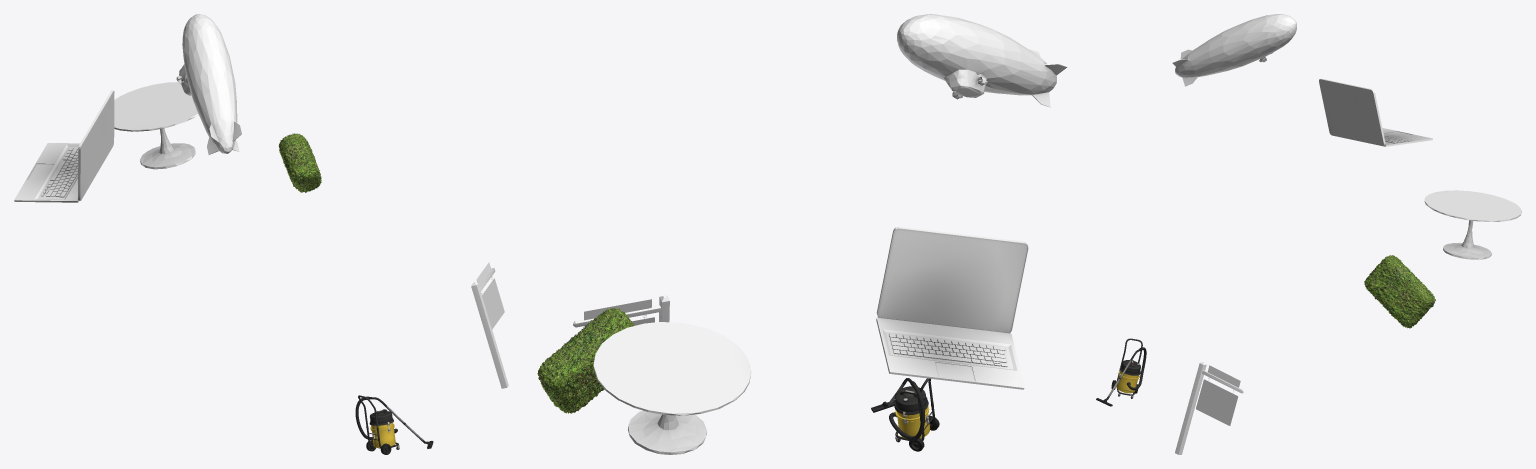
The picture shows the model from 3 angles, left to right: view 1: azimuth 30°, elevation 25°; view 2: azimuth 150°, elevation 25°; view 3: azimuth 270°, elevation 25°; orthographic projection. The views are drawn at different scales.
Visible parts, largest first — view 1: Zeppelin, Notebook, Table, RealEstate, Hedge, Vacumc; view 2: Notebook, Table, Zeppelin, Hedge, Vacumc, RealEstate; view 3: Zeppelin, Notebook, Table, Hedge, RealEstate, Vacumc.
Boxes of the visible parts, <box> form: Zeppelin: <box>176,14,241,154</box>; Notebook: <box>14,90,114,202</box>; Table: <box>114,82,198,169</box>; RealEstate: <box>471,262,508,388</box>; Hedge: <box>278,133,321,192</box>; Vacumc: <box>355,395,433,454</box>; Notebook: <box>876,226,1028,389</box>; Table: <box>593,322,751,454</box>; Zeppelin: <box>897,14,1067,107</box>; Hedge: <box>537,308,634,413</box>; Vacumc: <box>871,378,939,451</box>; RealEstate: <box>573,295,669,327</box>; Zeppelin: <box>1172,14,1296,86</box>; Notebook: <box>1319,78,1432,146</box>; Table: <box>1424,190,1521,259</box>; Hedge: <box>1364,255,1435,328</box>; RealEstate: <box>1175,362,1243,454</box>; Vacumc: <box>1096,338,1146,406</box>.
Size of the model in its own units: 20.35 by 18.92 by 21.4.
Materials: 8 (5 with a texture image).
